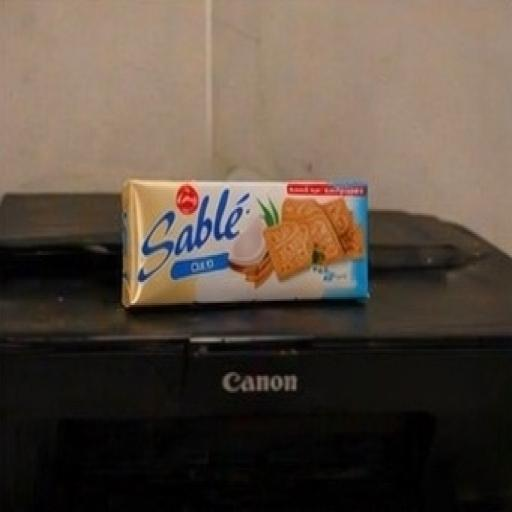sable: (102, 118, 403, 383)
